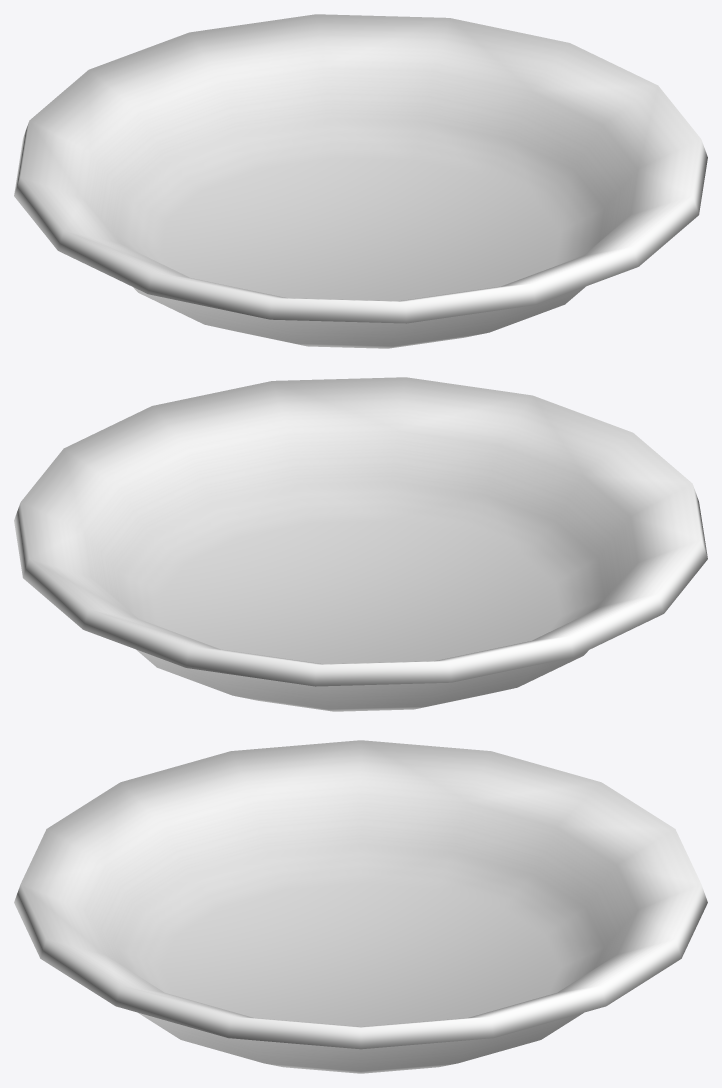
File: SM_Tape_2.1.fbx
3 renders of one model, top to bottom at view 1: azimuth 30°, elevation 25°; view 2: azimuth 150°, elevation 25°; view 3: azimuth 270°, elevation 25°, orthographic.
Visible parts, largest first — view 1: SM_Tape_2.1; view 2: SM_Tape_2.1; view 3: SM_Tape_2.1.
Part boxes in pixels (x1,y1,x2,y2): SM_Tape_2.1: [14, 14, 707, 348]; SM_Tape_2.1: [14, 377, 707, 711]; SM_Tape_2.1: [14, 740, 707, 1073].
Size of the model in its own units: 22.92 by 3.77 by 22.92.
Materials: 1 (1 with a texture image).
